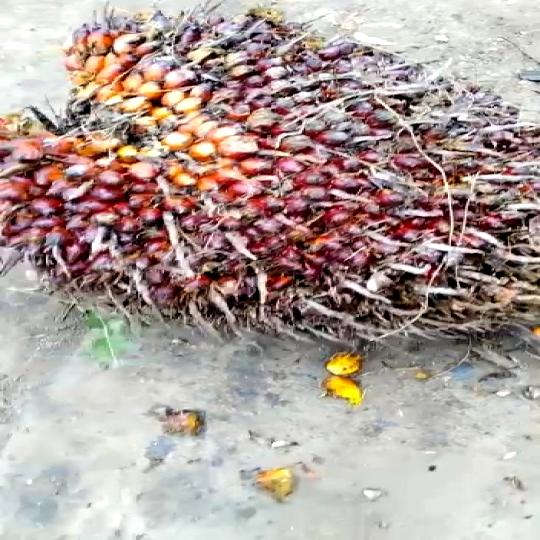masak: (0, 12, 540, 362)
